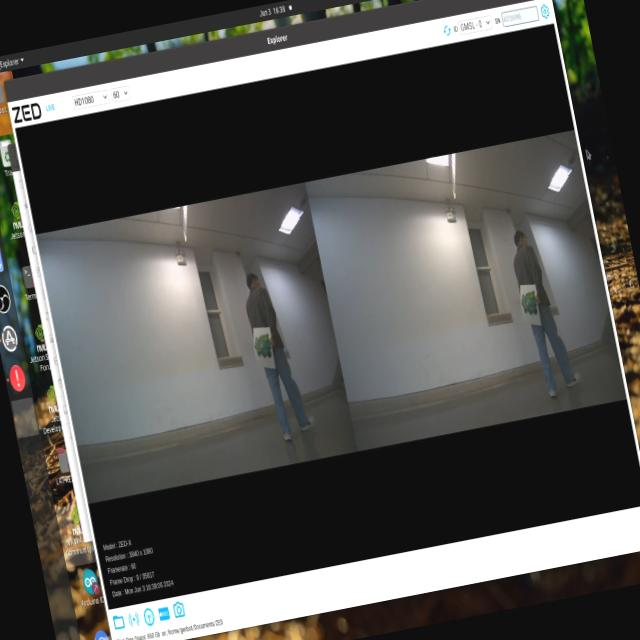green: (246, 324, 280, 364), (518, 286, 540, 326)
